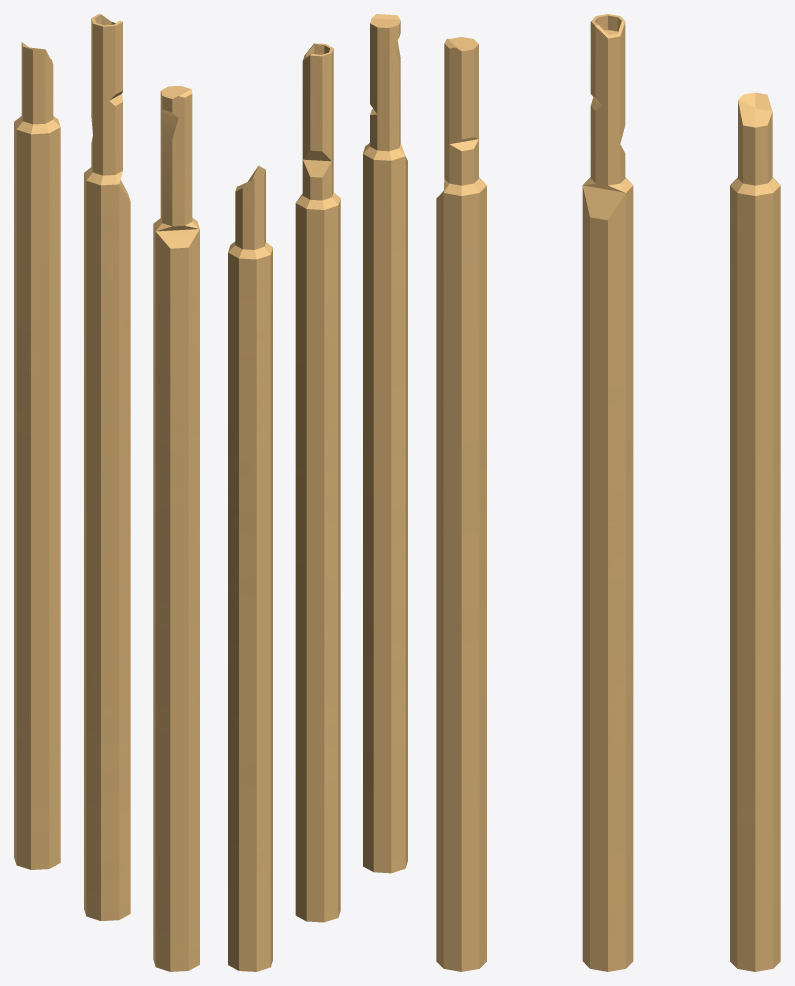
File: Pillar-Old.002.fbx
3 views of the same model, side by side, from view 1: azimuth 30°, elevation 25°; view 2: azimuth 150°, elevation 25°; view 3: azimuth 270°, elevation 25° (orthographic). The views are drawn at different scales.
Parts seen in each view (by area): view 1: Pillar-Old.002; view 2: Pillar-Old.002; view 3: Pillar-Old.002.
Boxes of the visible parts, <box> form: Pillar-Old.002: <box>14,14,199,971</box>; Pillar-Old.002: <box>228,14,407,971</box>; Pillar-Old.002: <box>436,14,780,971</box>.
Size of the model in its own units: 562 by 11458 by 3803.
